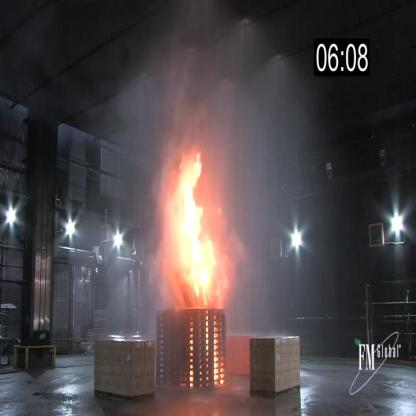fire: (172, 148, 220, 309)
